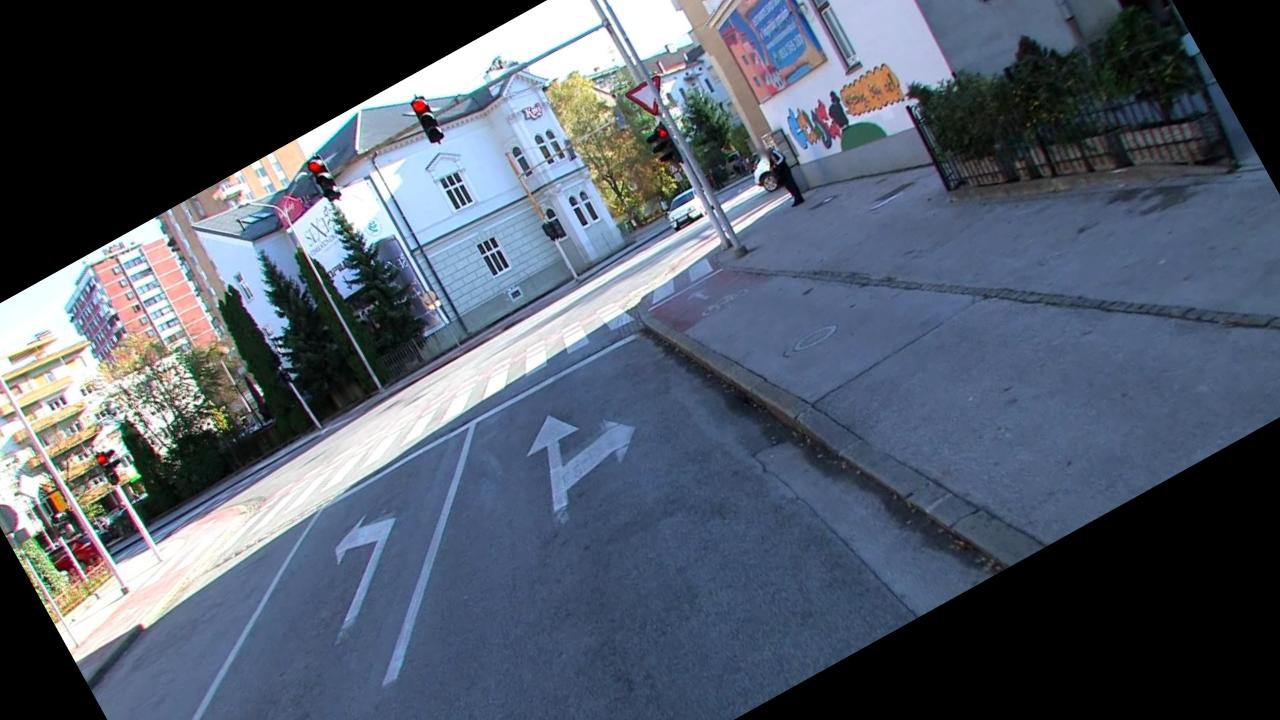Triangle: (624, 72, 677, 124)
